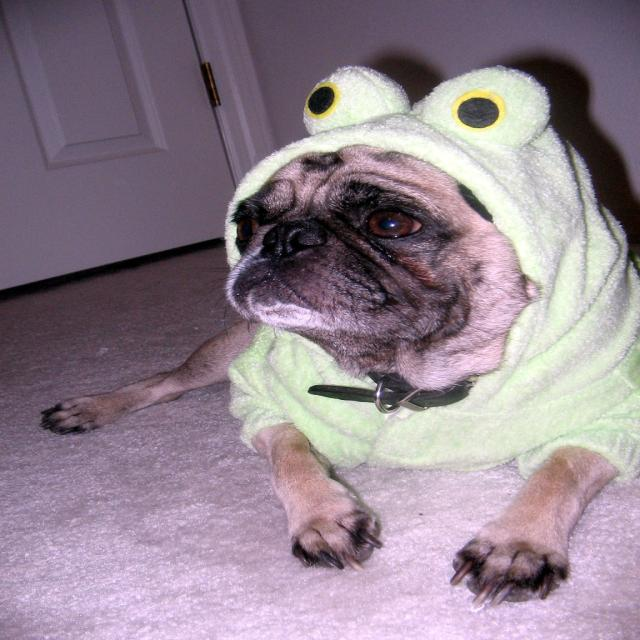dog: (104, 45, 613, 402)
